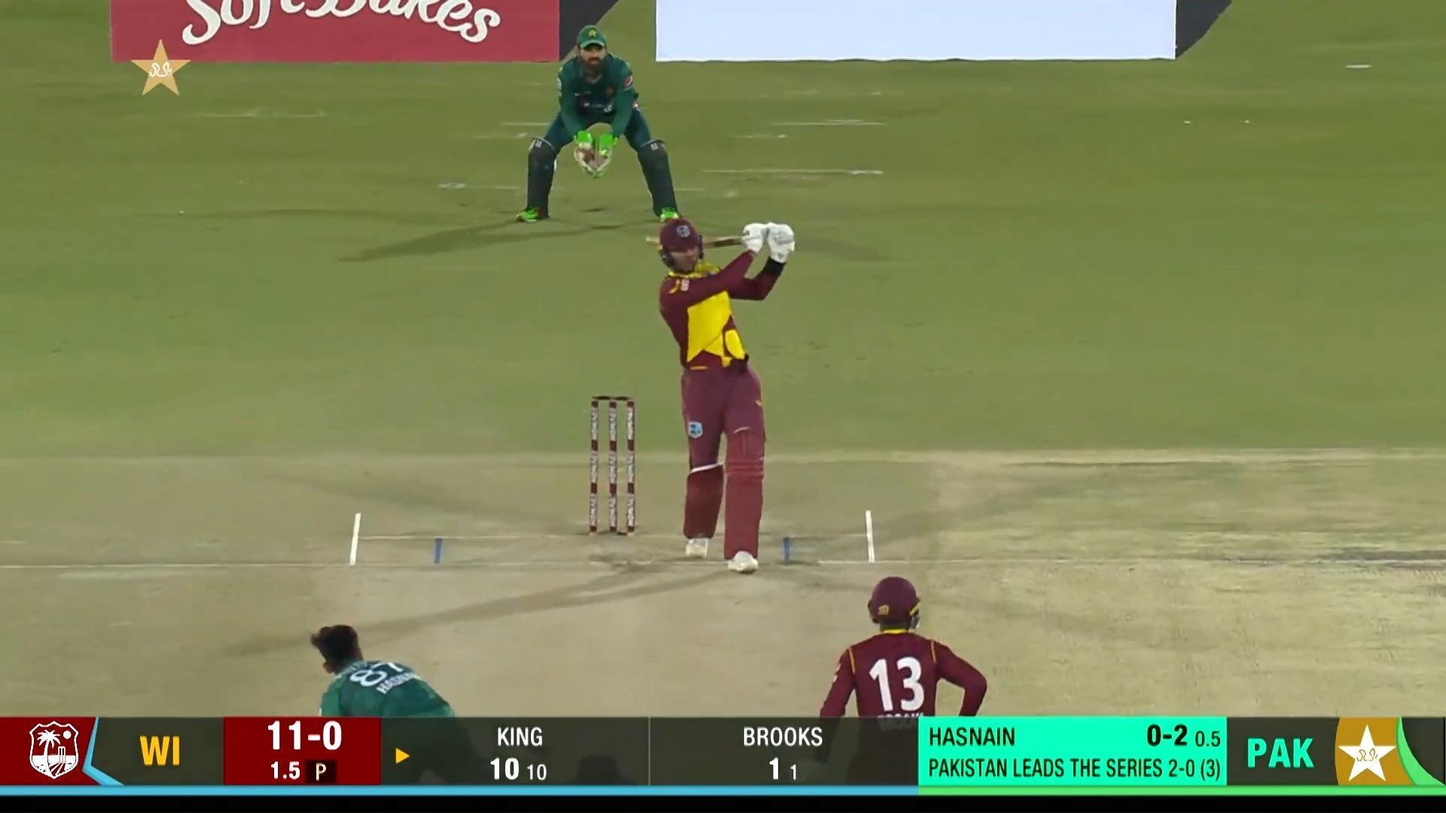BM 1: (644, 220, 796, 574)
BO: (311, 622, 465, 717)
